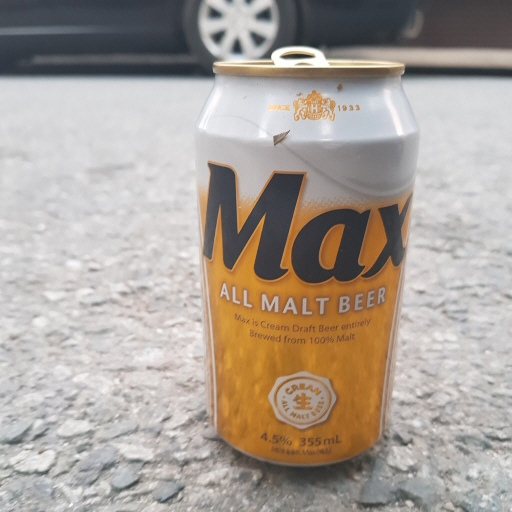Metal_0: (195, 45, 421, 469)
